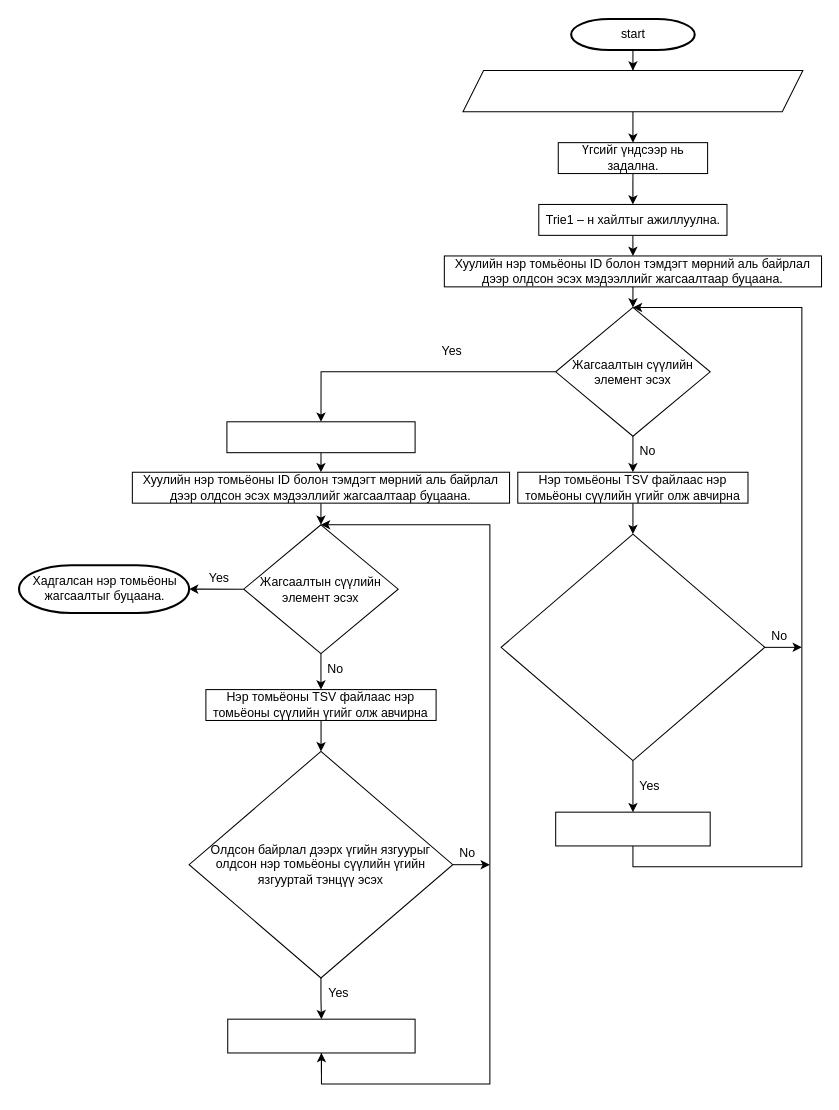
Some shapes in this 839 by 1110 pixel diagram are drawn without their labels. The box of each missing label's shape, as (x1, y1, x2, y2) in pixels:
Trie1 ( 2 буюу түүнээс дээш урттай), Trie2 (1 урттай), тэмдэг мөр буюу текс: (462, 70, 803, 112)
Trie2 – н хайлтыг ажиллуулна.: (226, 421, 415, 453)
Ард талын үгийн язгуурыг олдсон нэр томьёоны сүүлийн үгийн язгууртай тэнцүү эсэх: (500, 533, 765, 761)
Нэр томьёог хадгална.: (555, 811, 710, 846)
Нэр томьёоны жагсаалтанд нэмж хадгална.: (227, 1018, 415, 1053)
